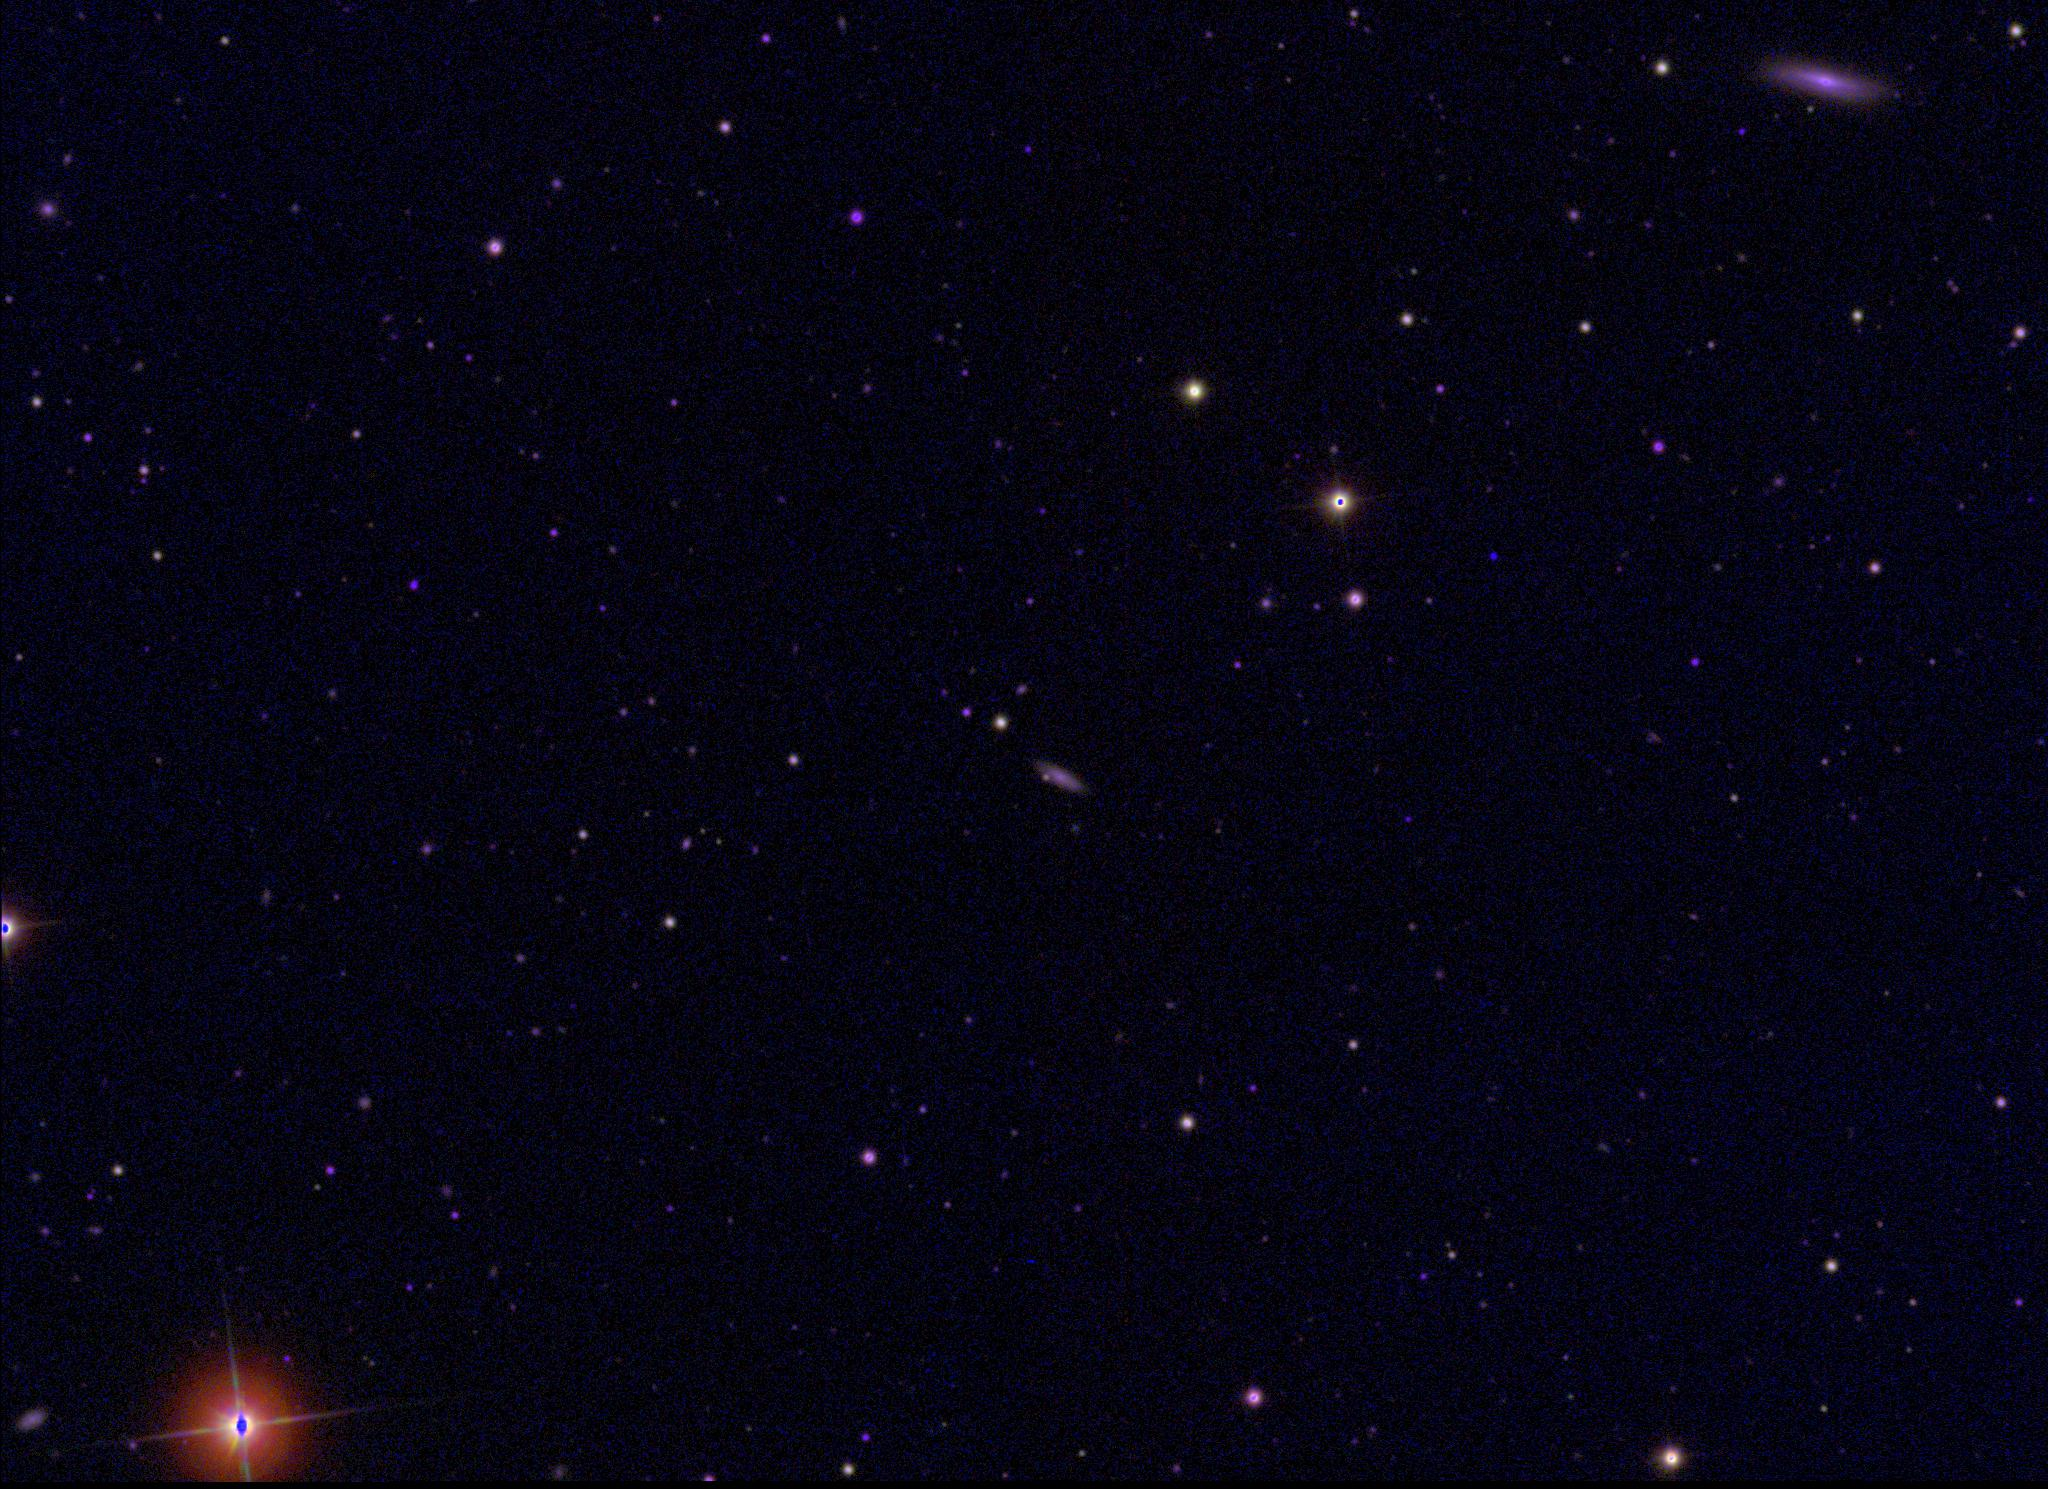L: (1487, 549, 1501, 563)
